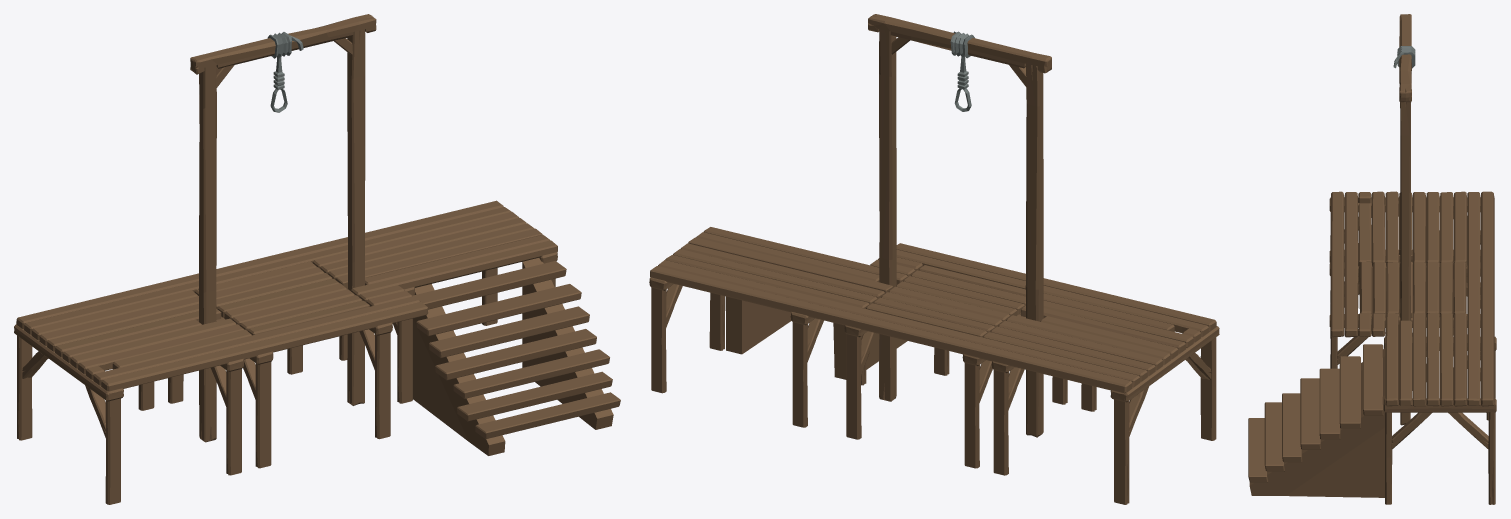
Rendered from gallows.fbx.
The picture shows the model from 3 angles, left to right: view 1: azimuth 30°, elevation 25°; view 2: azimuth 150°, elevation 25°; view 3: azimuth 270°, elevation 25°; orthographic projection. The views are drawn at different scales.
Parts seen in each view (by area): view 1: gallows; view 2: gallows; view 3: gallows.
Part boxes in pixels (bbox=[...]): gallows: bbox=[14, 14, 620, 504]; gallows: bbox=[649, 14, 1219, 504]; gallows: bbox=[1248, 14, 1496, 504].
Bounding box in the file's own units: 660 × 504 × 332.
